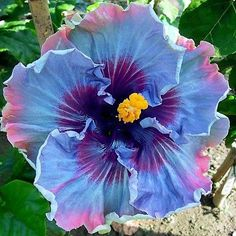Hibiscus: (1, 8, 226, 236)
